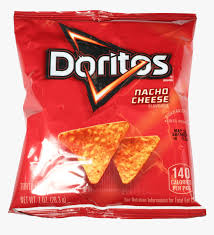Doritos: (24, 15, 190, 186)
